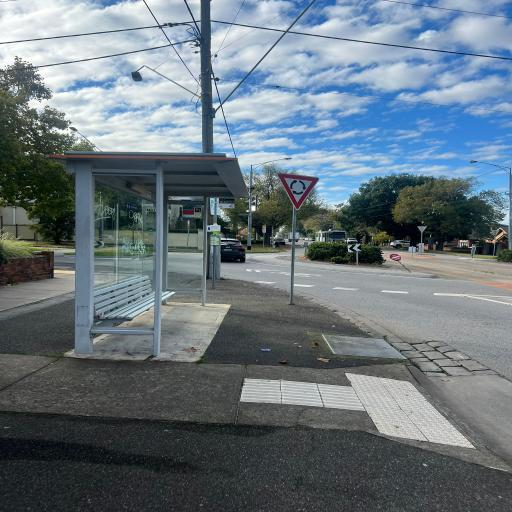Obstruction: (274, 172, 324, 305)
clear_path: (183, 307, 323, 421)
kerb_cut: (317, 373, 502, 462)
signage: (209, 199, 236, 289), (182, 205, 202, 219)
tgsi: (240, 375, 476, 450)
